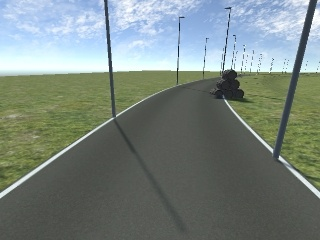Barriels: (211, 66, 251, 105)
